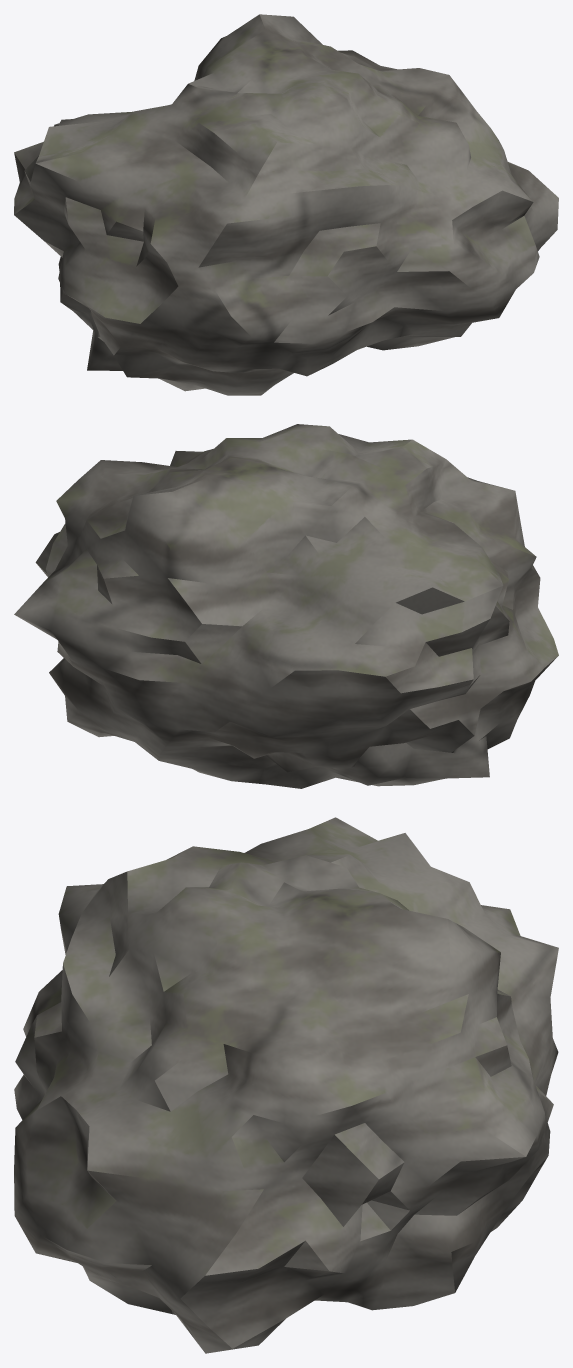
The model's file is rock-a.fbx.
3 renders of one model, top to bottom at view 1: azimuth 30°, elevation 25°; view 2: azimuth 150°, elevation 25°; view 3: azimuth 270°, elevation 25°, orthographic. The views are drawn at different scales.
Visible parts, largest first — view 1: rock-a; view 2: rock-a; view 3: rock-a.
Part boxes in pixels (box(x1,y1,x2,y2)): rock-a: box(14, 14, 558, 395); rock-a: box(14, 424, 558, 788); rock-a: box(14, 817, 558, 1353).
Size of the model in its own units: 551 by 317 by 413.
Materials: 1 (1 with a texture image).
